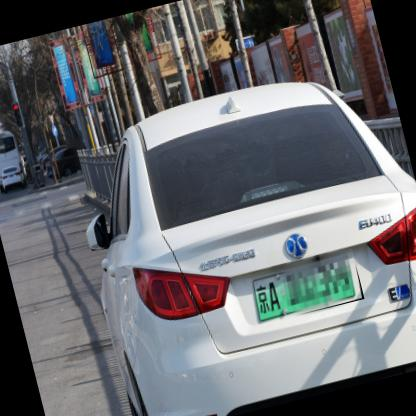Plates: (242, 248, 366, 327)
